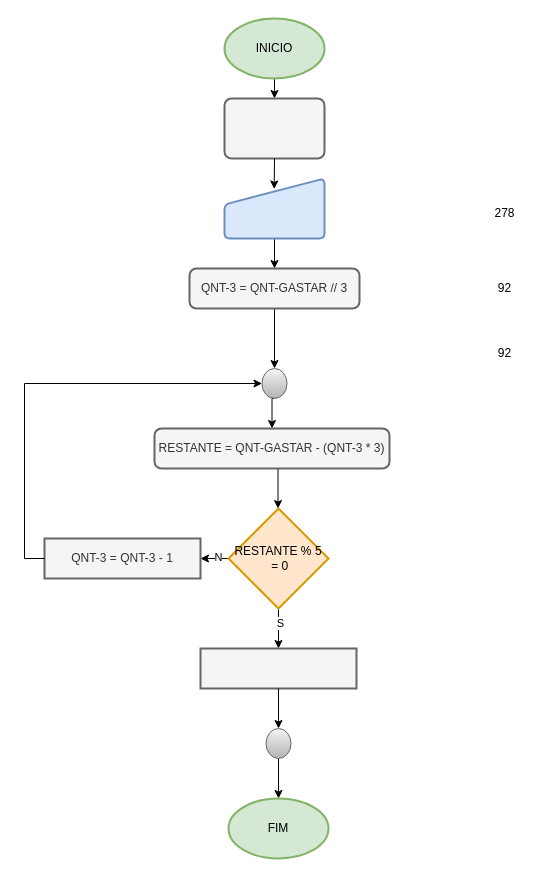
Image size: 542x876. Some labels were removed from this diagram. Each missing label, with the centre of its shape:
"QNT-3 = 0 QNT-5 = 0 RESTANTE = 0" goes at pixel 274 128.
"QNT-5 = RESTANTE % 5" goes at pixel 278 668.
"QNT-GASTAR" goes at pixel 274 208.
